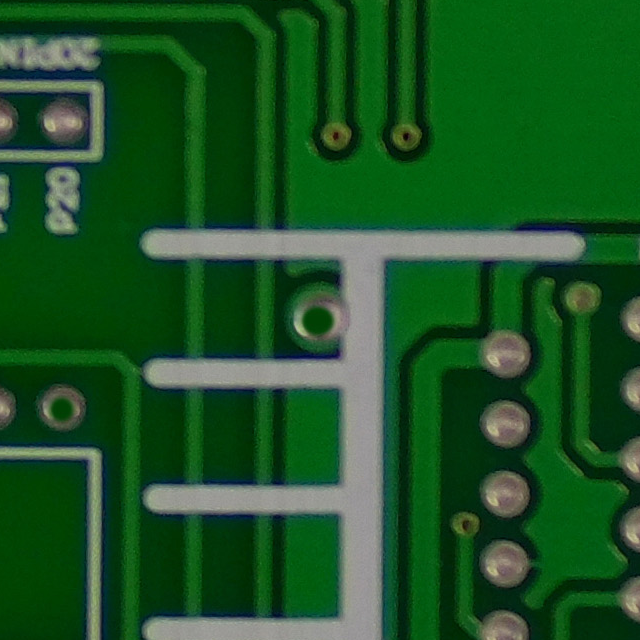missing_hole: (284, 281, 356, 360), (32, 376, 97, 438)
